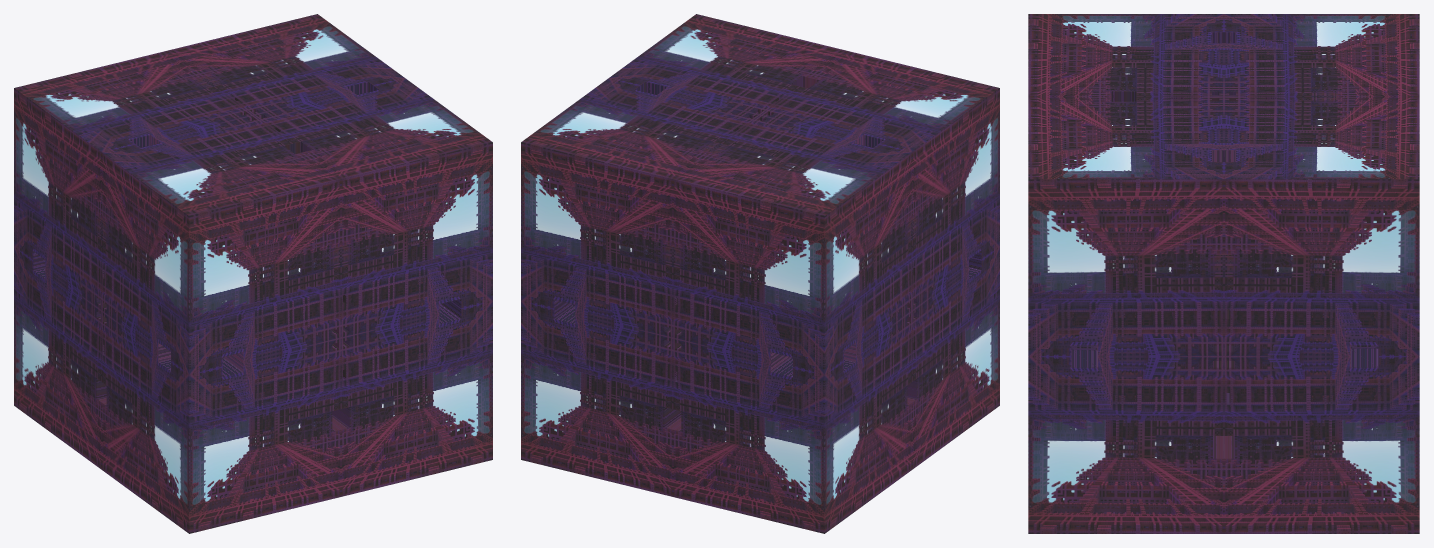
Rendered from blocky.glb.
3 renders of one model, left to right at view 1: azimuth 30°, elevation 25°; view 2: azimuth 150°, elevation 25°; view 3: azimuth 270°, elevation 25°, orthographic. The views are drawn at different scales.
Parts seen in each view (by area): view 1: Plane.004, Plane.005, Plane.002; view 2: Plane.003, Plane.005, Plane.002; view 3: Plane.006, Plane.002.
Boxes of the visible parts, box(x1,y1,x2,y2) form: Plane.004: box(189, 142, 492, 533); Plane.005: box(14, 88, 189, 533); Plane.002: box(14, 14, 492, 216); Plane.003: box(521, 142, 824, 533); Plane.005: box(824, 88, 999, 533); Plane.002: box(521, 14, 999, 216); Plane.006: box(1028, 179, 1419, 533); Plane.002: box(1028, 14, 1419, 179).
Bounding box in the file's own units: 199 × 199 × 199.
1 material, 1 textured.
